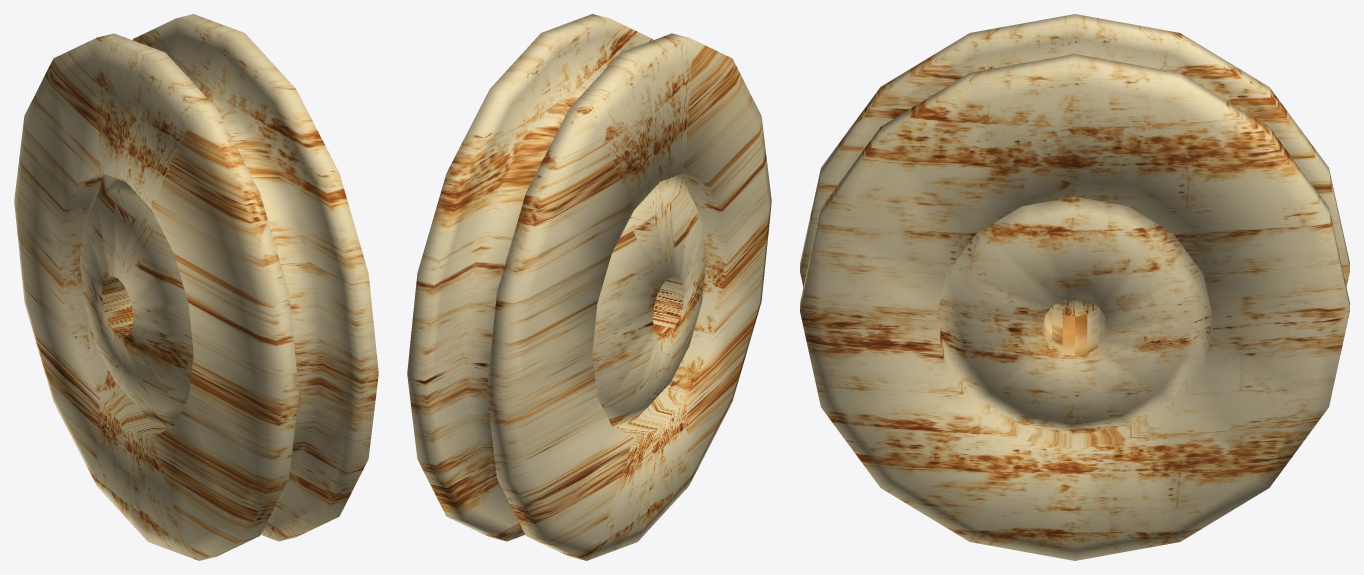
Rendered from Pulley.fbx.
3 views of the same model, side by side, from view 1: azimuth 30°, elevation 25°; view 2: azimuth 150°, elevation 25°; view 3: azimuth 270°, elevation 25° (orthographic). The views are drawn at different scales.
Parts seen in each view (by area): view 1: Old_Pulley; view 2: Old_Pulley; view 3: Old_Pulley.
Boxes of the visible parts, x1,y1,x2,y2 form: Old_Pulley: [14, 14, 378, 560]; Old_Pulley: [407, 14, 771, 560]; Old_Pulley: [800, 14, 1349, 560].
Bounding box in the file's own units: 0.9744 × 2.86 × 2.86.
